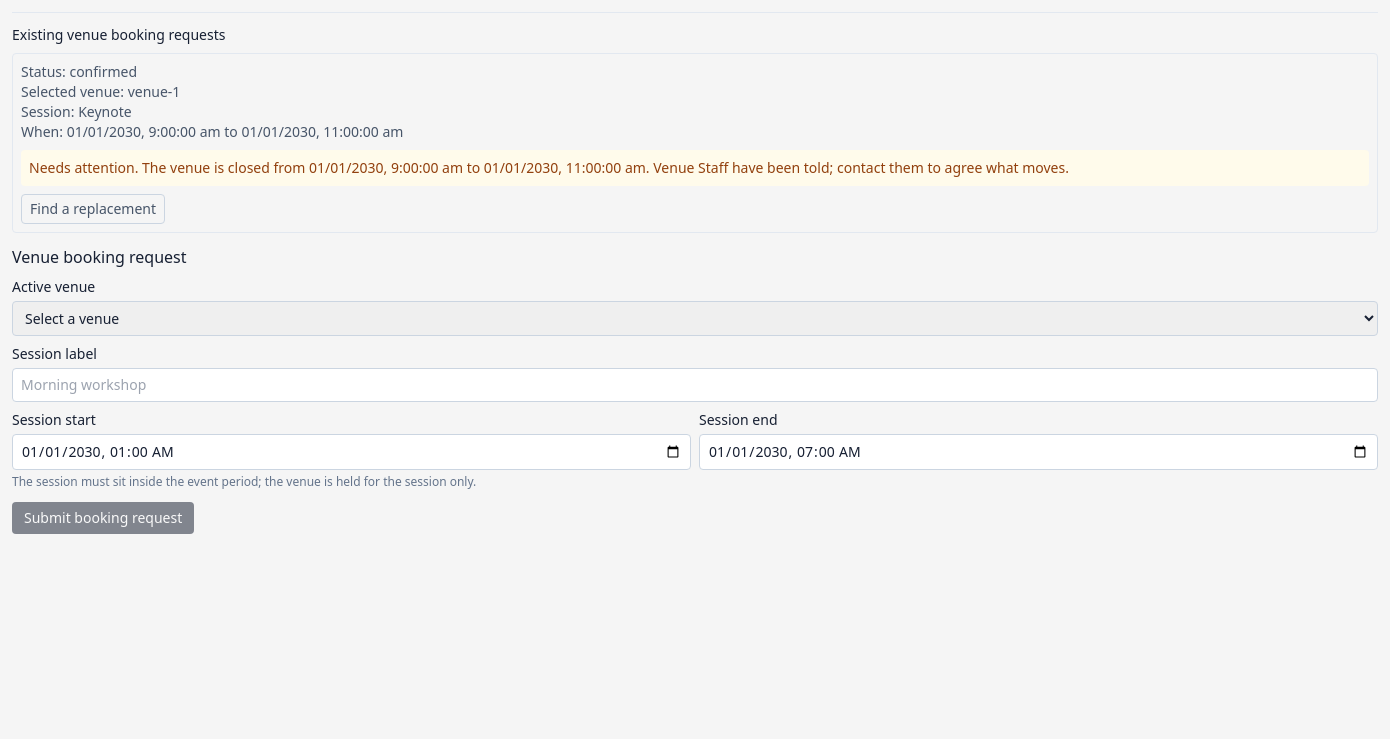
Test: SCRUM-116 linked replacement › AC1, AC2: a replacement keeps the session and period and links to the original
Click the button with aria-label "Find a replacement for Keynote" at (93, 209), box [21,194,165,224]
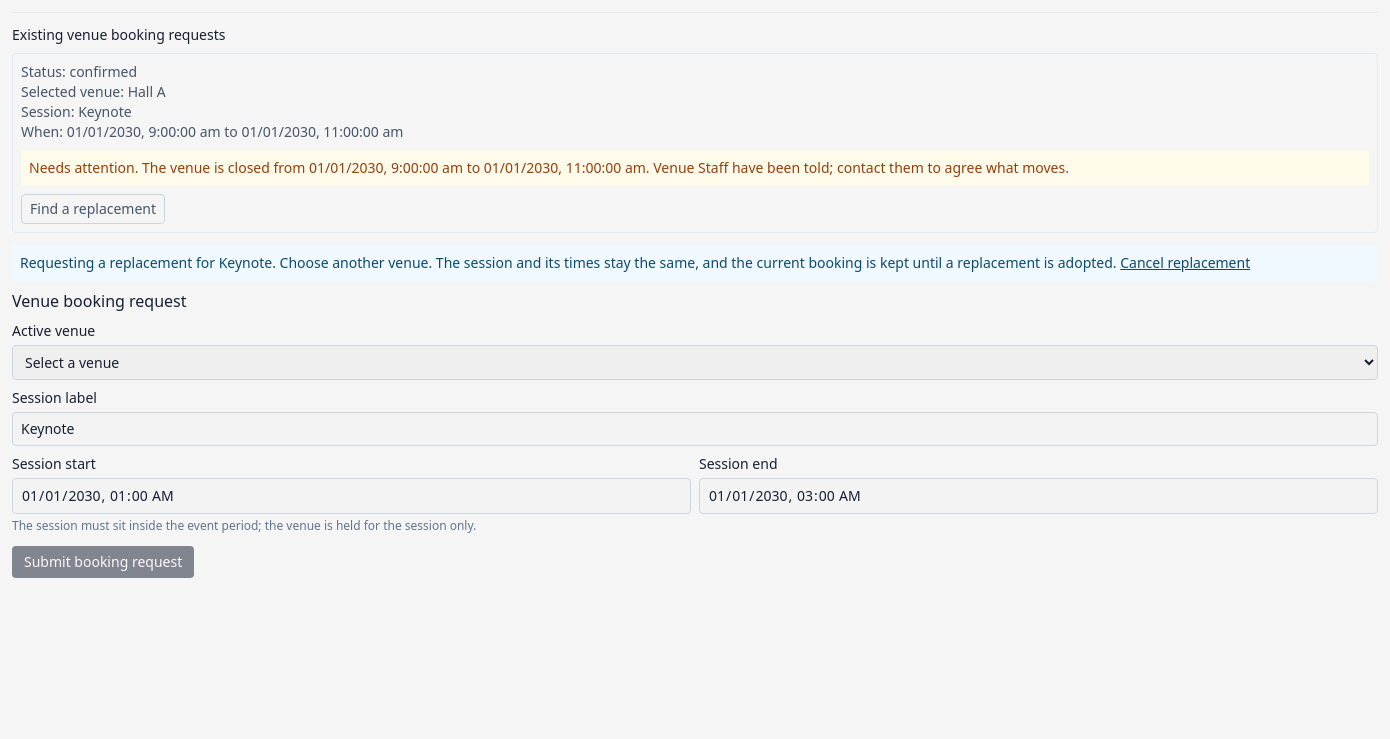
Result: the element that starts with "Requesting a replacement for" shows "Requesting a replacement for Keynote" at [12,245,1378,281]
Result: the field labelled "Session label" is disabled at [12,412,1378,446]
Result: the field labelled "Session label" holds "Keynote" at [12,412,1378,446]
Select "Hall B" in the dropdown labelled "Active venue" at (695, 362), box [12,345,1378,380]
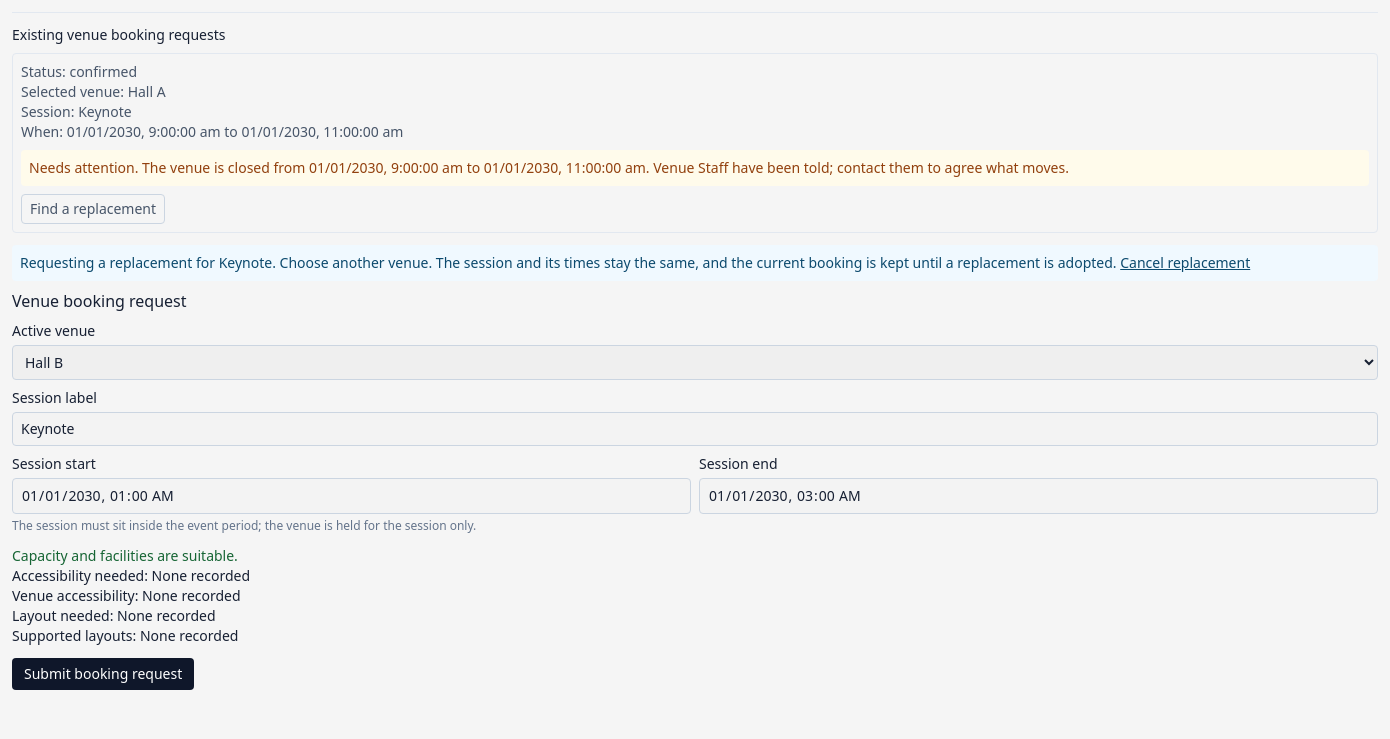
Result: the button "Submit booking request" is enabled
Click the button "Submit booking request" at (103, 674), box [12,658,194,690]
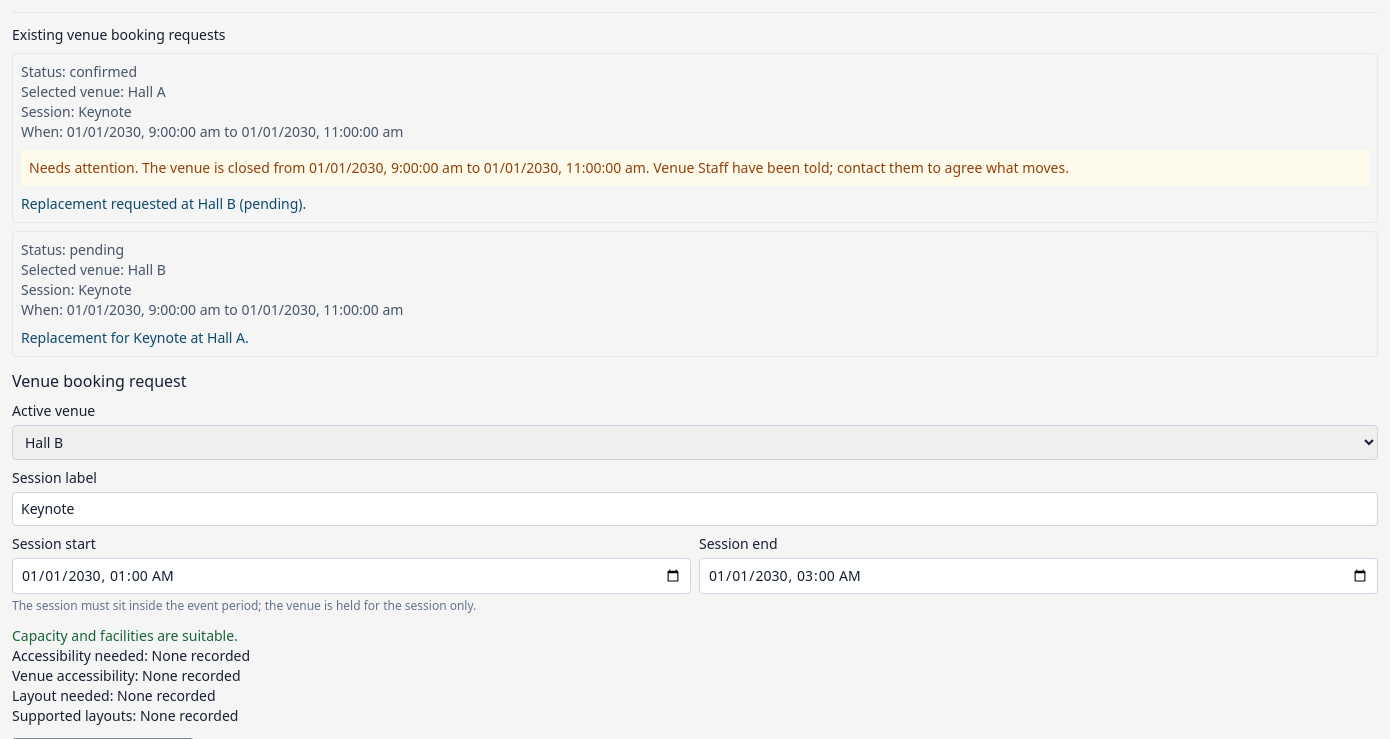
Result: the text "Replacement for Keynote at Hall A." is shown at [21,328,249,347]
Result: the text "Replacement requested at Hall B (pending)." is shown at [21,194,306,213]
Result: the button "Find a replacement" is gone
